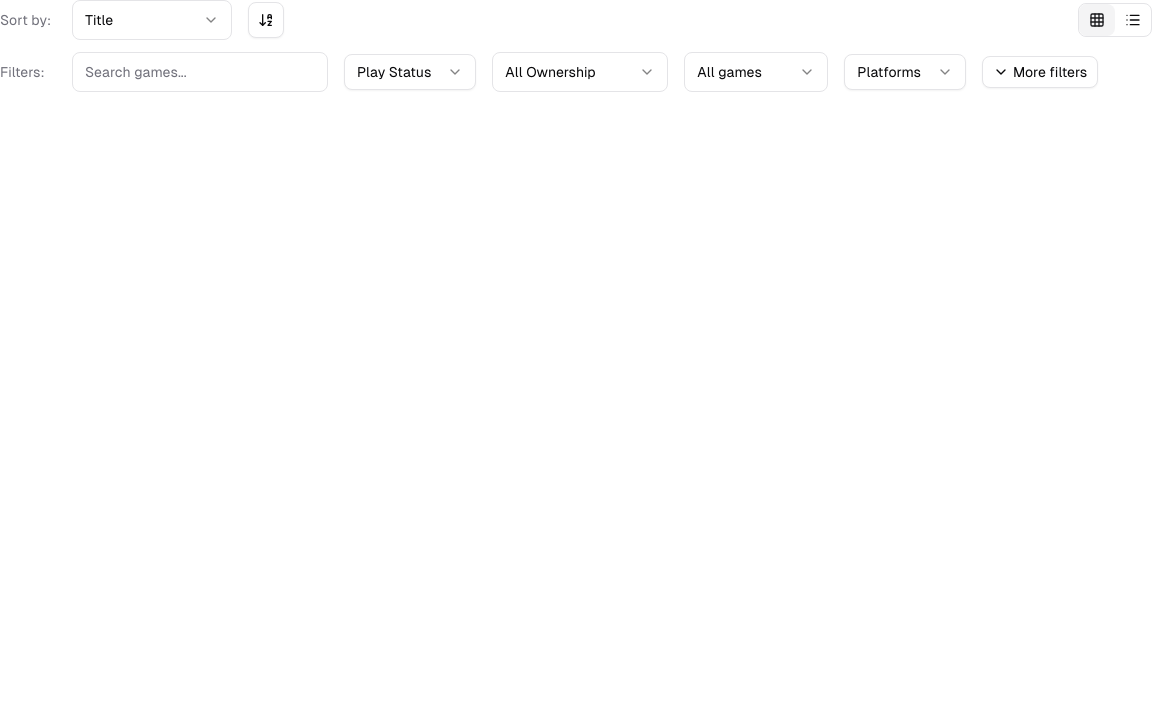
it: GameFilters › status filter (multi-select) › renders all PlayStatus options
Click the dropdown "Play Status". click: (410, 72)
box: x1=344 y1=54 x2=476 y2=90
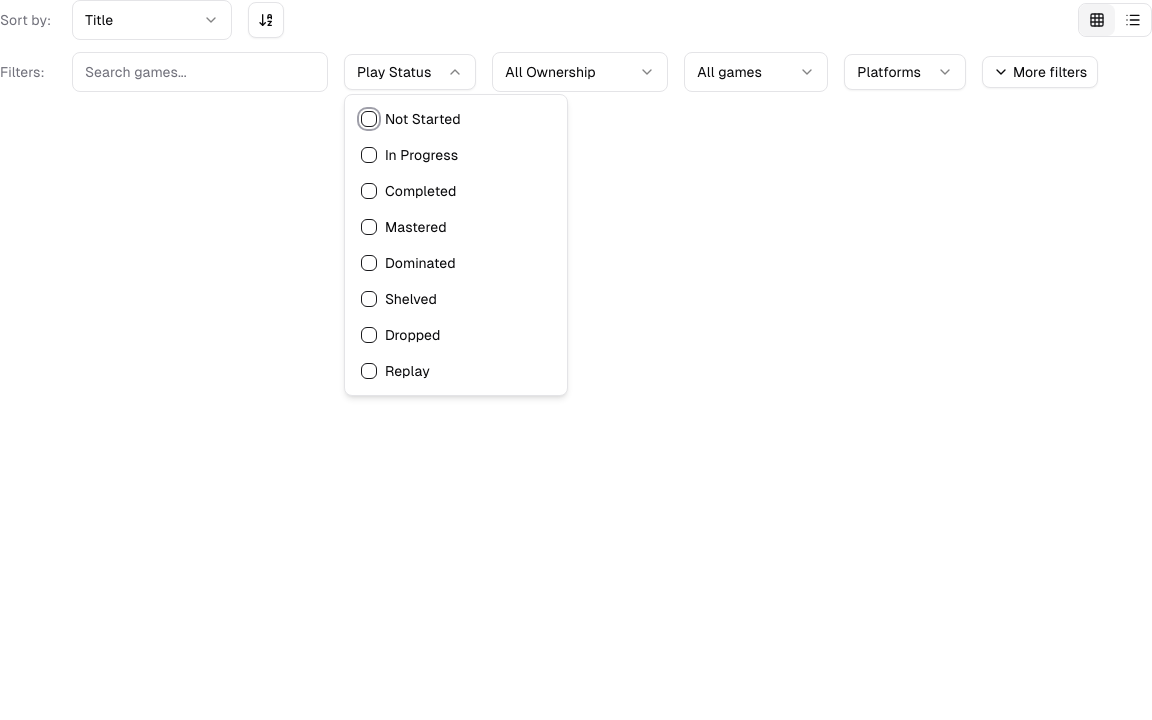
Now the text "Not Started" is shown, box x1=385 y1=109 x2=461 y2=129
Now the text "In Progress" is shown, box x1=385 y1=145 x2=458 y2=165
Now the text "Completed" is shown, box x1=385 y1=181 x2=456 y2=201
